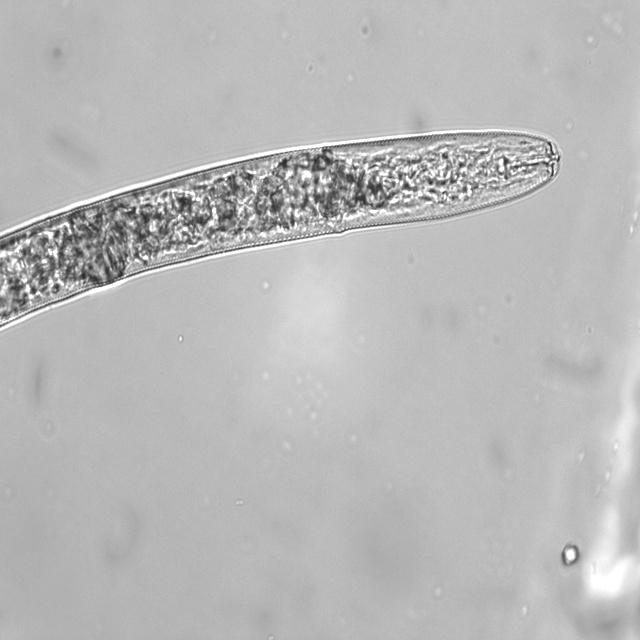Pratylenchus: (0, 124, 563, 344)
